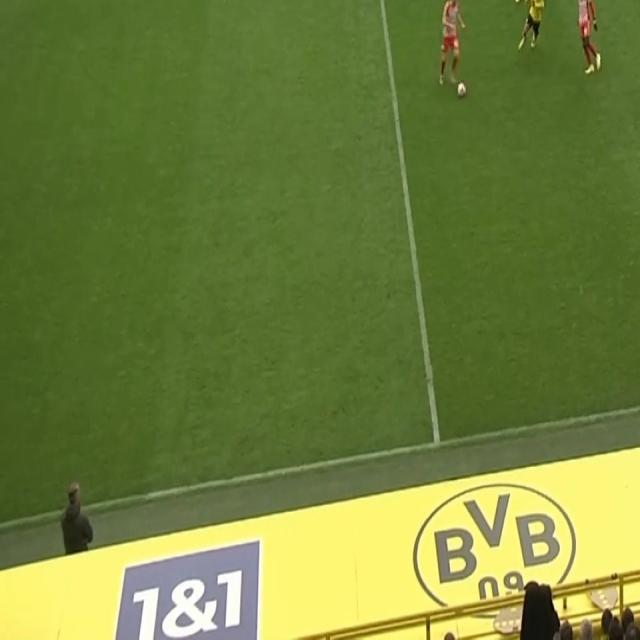ball: (456, 80, 468, 99)
